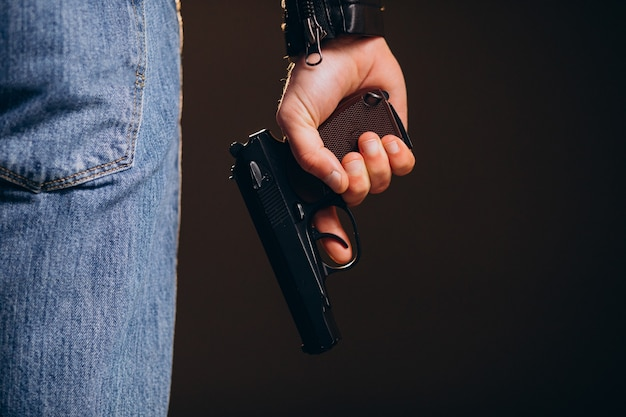gun: (225, 84, 416, 358)
